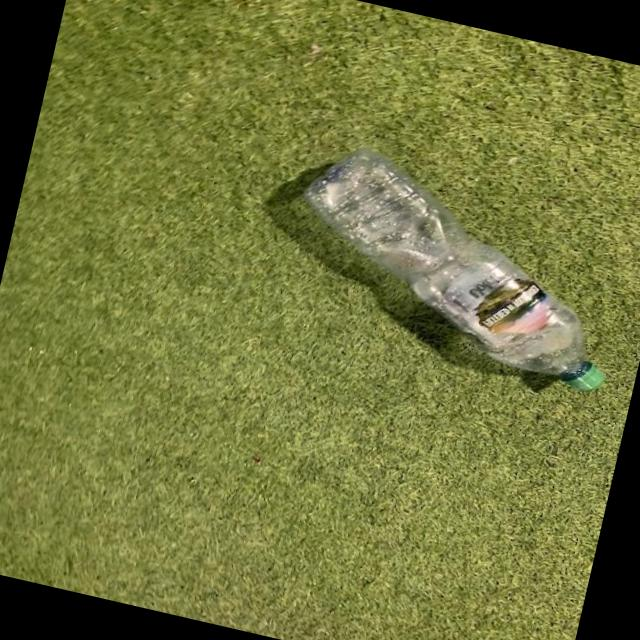plastic_bottle: (274, 135, 640, 395)
